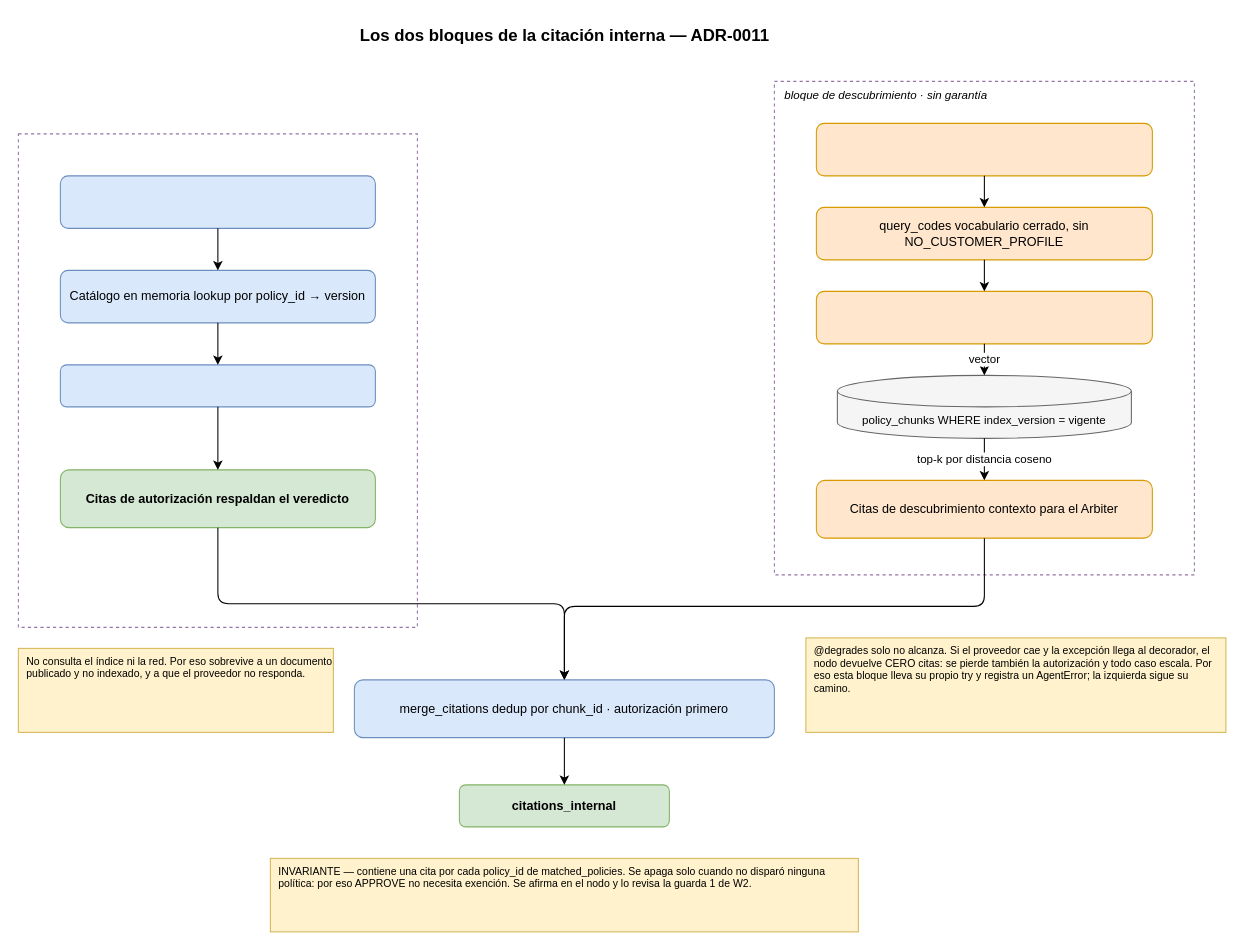
This 1244x950 diagram has some shape labels left out. Each missing label, with the box of its shape:
bloque de autorización · garantía total: (17, 133, 417, 627)
chunk_id_for(policy_id, version, 0): (59, 364, 375, 407)
matched_policies del motor determinístico: (59, 175, 375, 228)
QueryCache → embedder (Gemini) asyncio.to_thread: (815, 290, 1152, 344)
signals emitidas por los agentes: (815, 122, 1152, 176)
